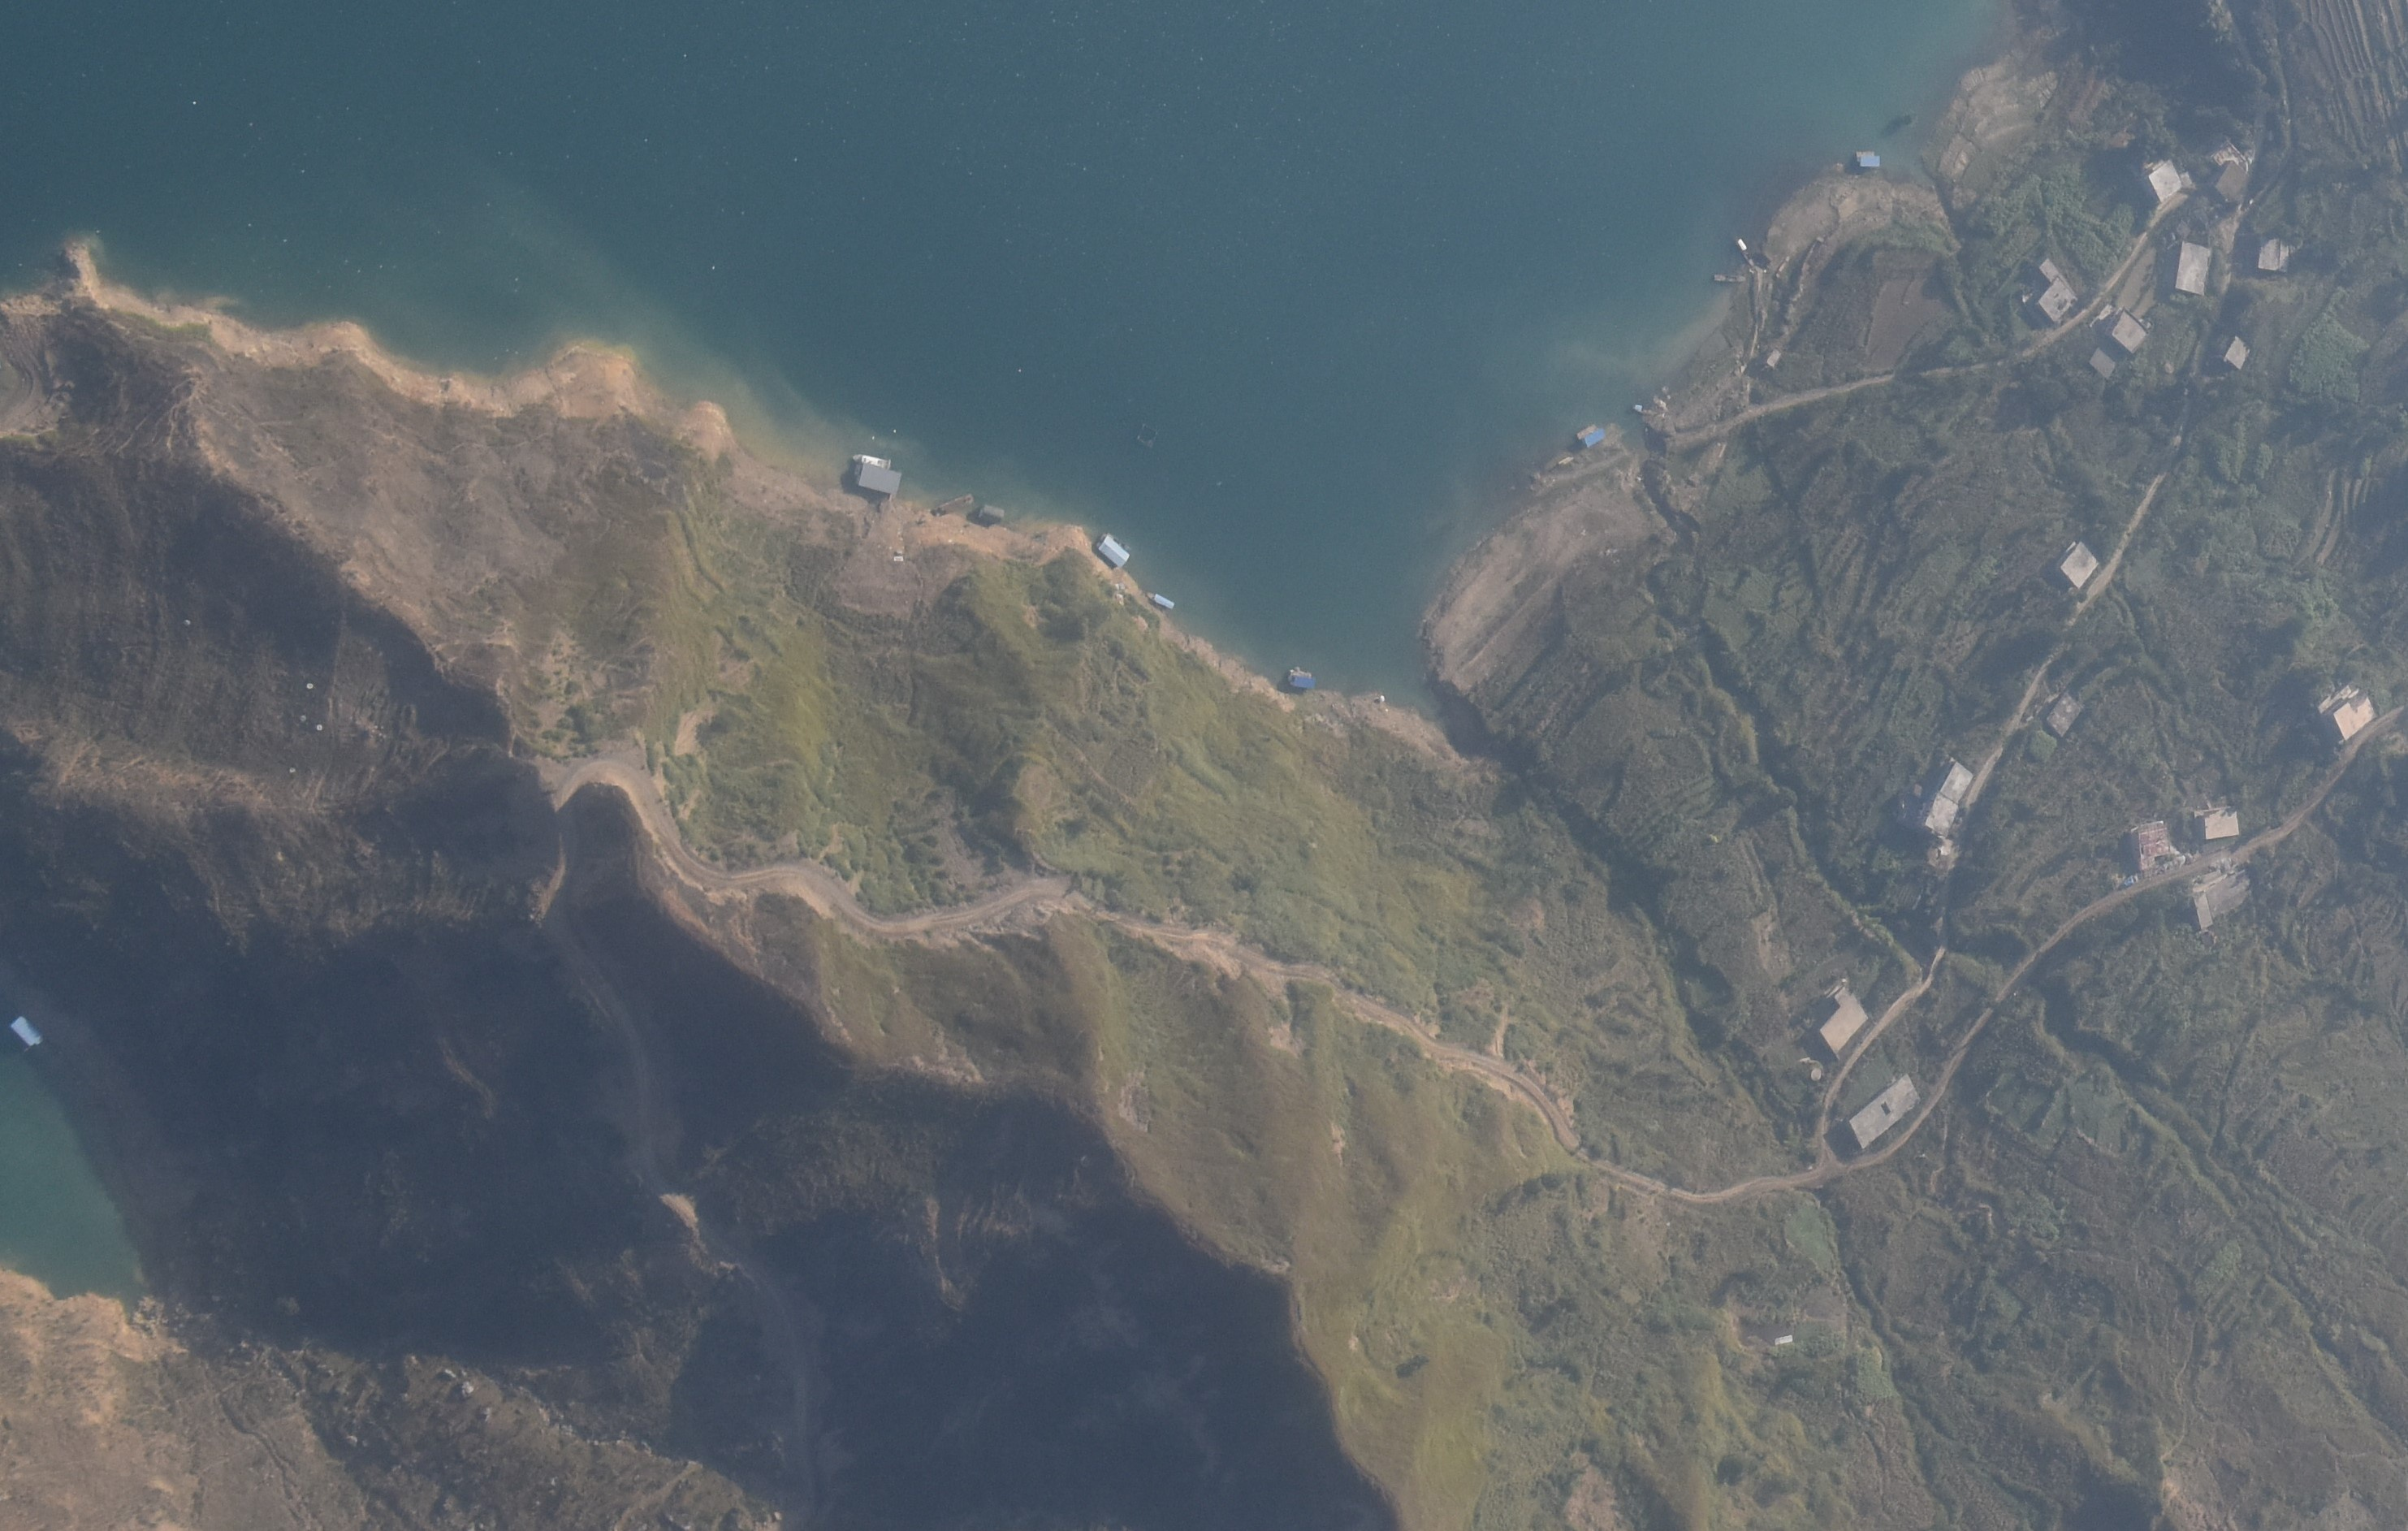building: (1851, 1072, 1919, 1152), (1918, 756, 1976, 835), (2089, 308, 2151, 380), (2192, 866, 2251, 930), (1818, 984, 1867, 1053), (2317, 684, 2376, 741), (2129, 820, 2183, 874), (2037, 256, 2079, 322), (2213, 139, 2249, 200), (2174, 242, 2213, 296), (2060, 539, 2099, 590), (2043, 689, 2082, 737), (2194, 804, 2241, 838), (2148, 157, 2183, 202), (2255, 236, 2291, 272), (2225, 334, 2253, 370), (2177, 172, 2194, 188)
prefabricated-house: (854, 460, 901, 498), (1098, 533, 1129, 568), (10, 1014, 39, 1047), (1576, 422, 1603, 447), (1290, 668, 1316, 690), (979, 504, 1005, 525), (1855, 149, 1880, 169)
ship: (930, 495, 975, 514), (851, 452, 891, 468), (1144, 590, 1175, 609), (1736, 239, 1756, 268), (1634, 404, 1663, 418), (1713, 272, 1749, 282)
well: (1805, 1062, 1823, 1081)
